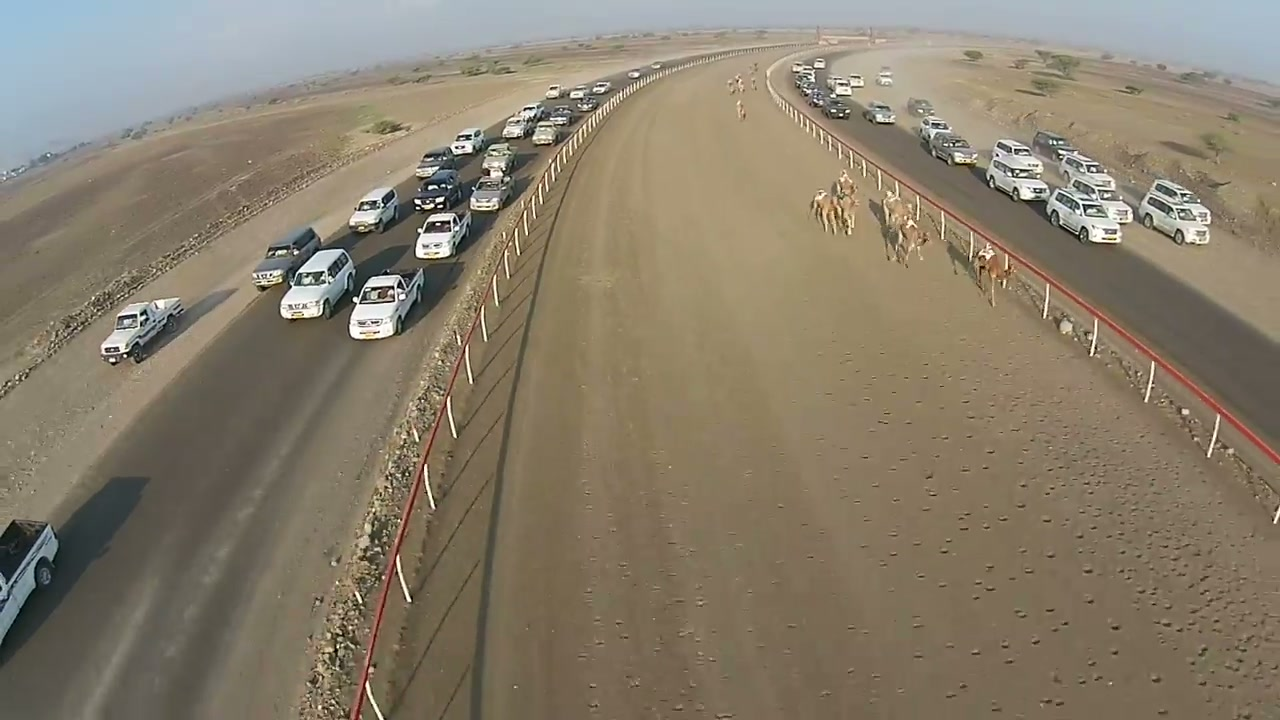animal_footprint: (844, 264, 1271, 708)
